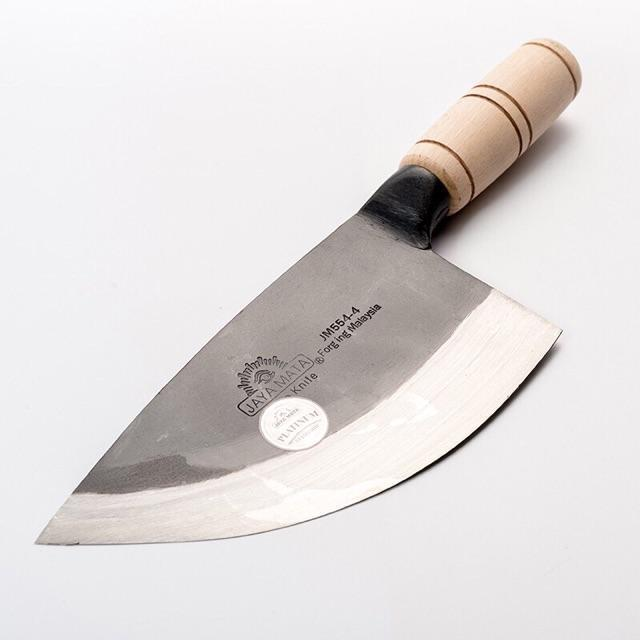Pisau: (24, 15, 596, 551)
